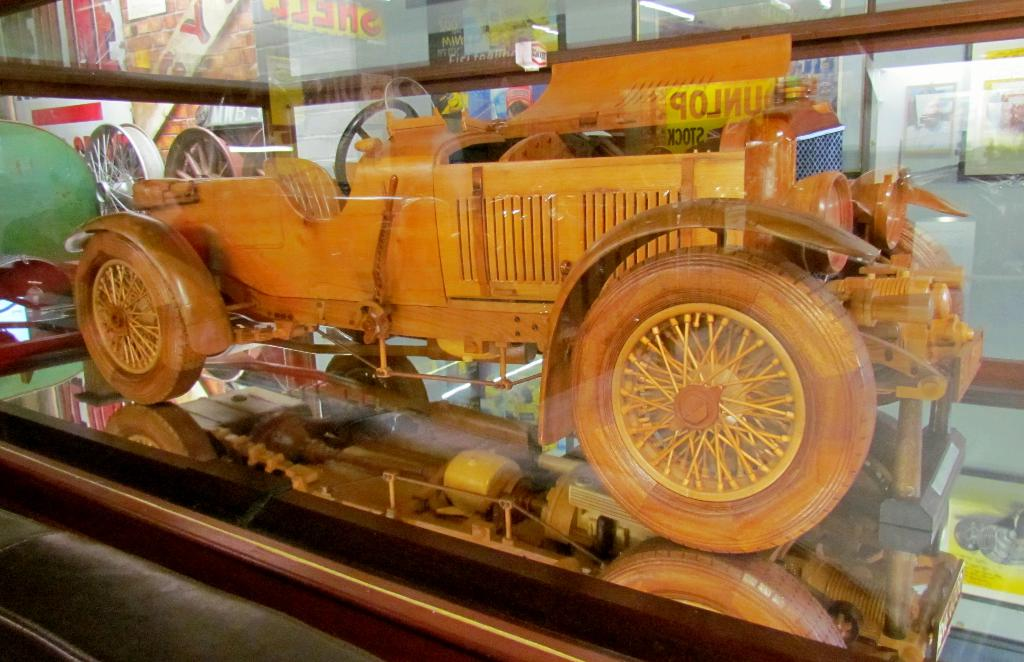cars: (64, 29, 991, 553)
